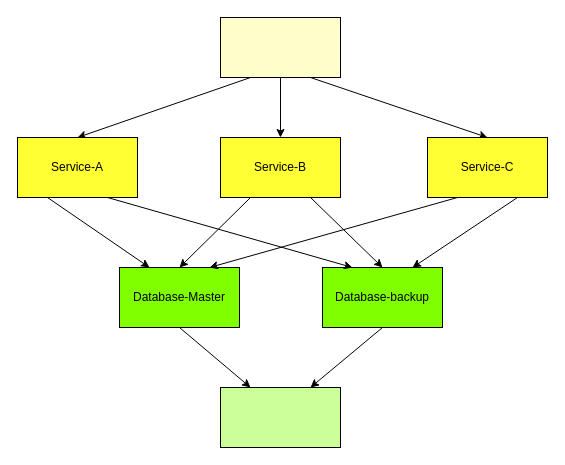
This 565x465 diagram has some shape labels left out. Here are the shapes that lost their labels. From the top down, the box of each, then its label:
(220, 16, 340, 78): Service
(220, 386, 340, 448): Database
